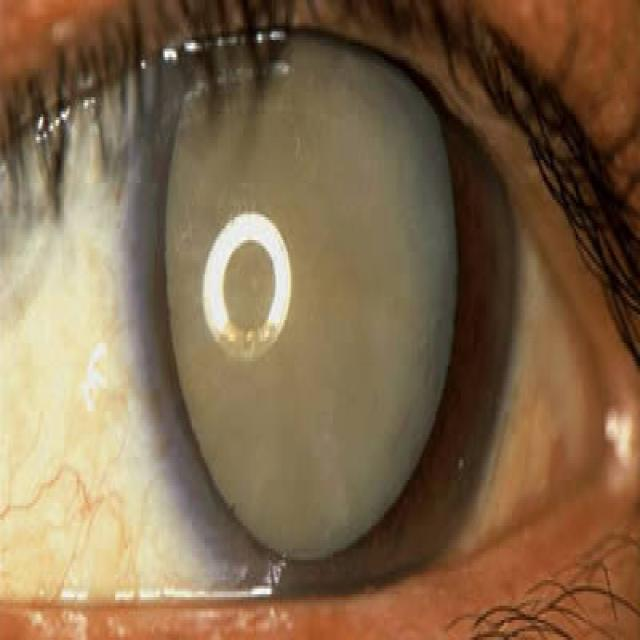Cataract: (129, 0, 523, 621)
